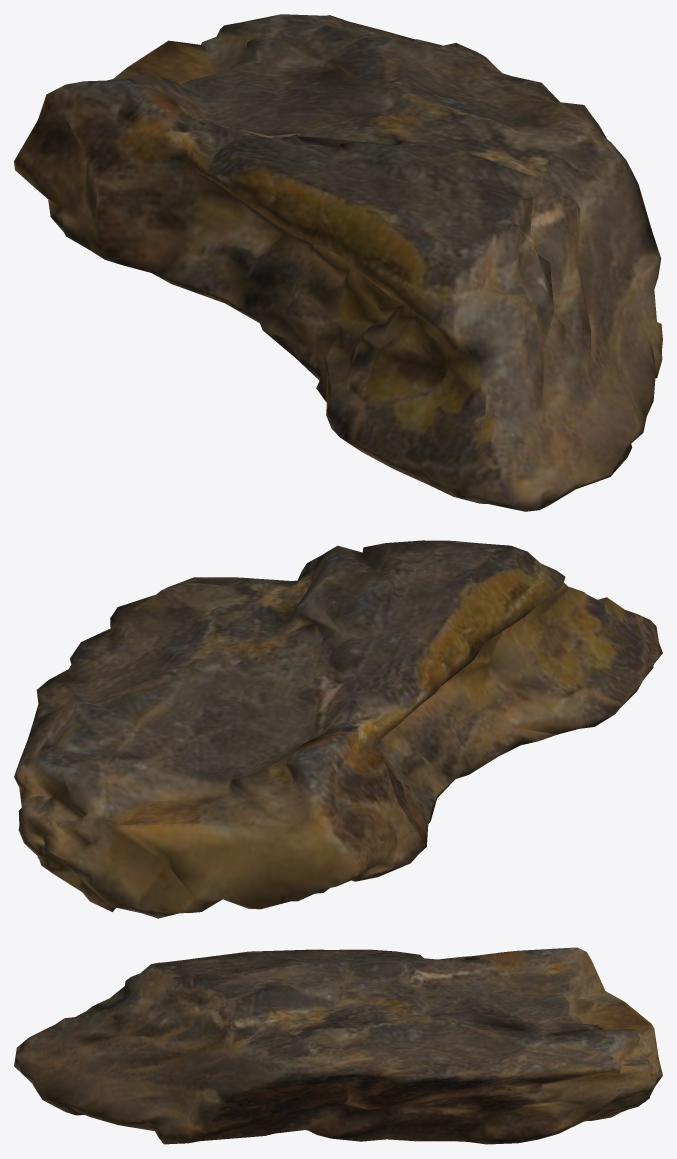
The model's file is rock_b.glb.
The picture shows the model from 3 angles, top to bottom: view 1: azimuth 30°, elevation 25°; view 2: azimuth 150°, elevation 25°; view 3: azimuth 270°, elevation 25°; orthographic projection. The views are drawn at different scales.
Visible parts, largest first — view 1: rock_09_LOD0; view 2: rock_09_LOD0; view 3: rock_09_LOD0.
Part boxes in pixels (x1,y1,x2,y2): rock_09_LOD0: [14, 14, 662, 511]; rock_09_LOD0: [14, 540, 662, 918]; rock_09_LOD0: [14, 947, 662, 1144].
Bounding box in the file's own units: 0.0739 × 0.0326 × 0.1446.
Materials: 1 (1 with a texture image).
